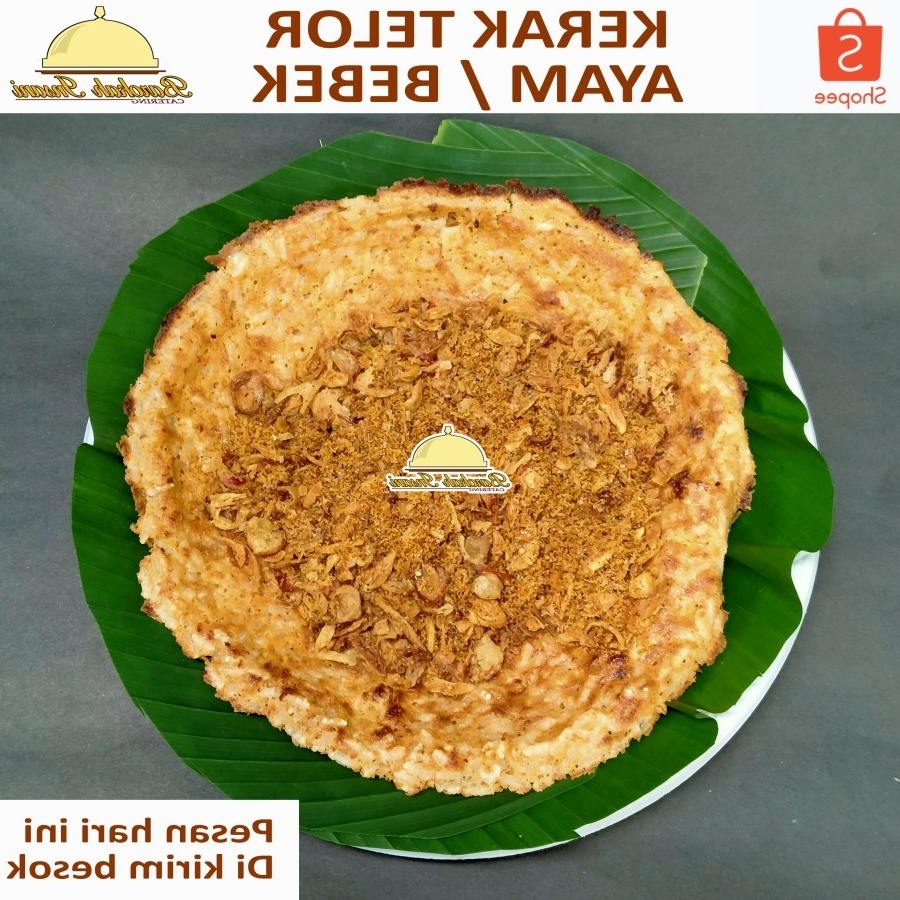kerak_telor: (124, 176, 757, 792)
